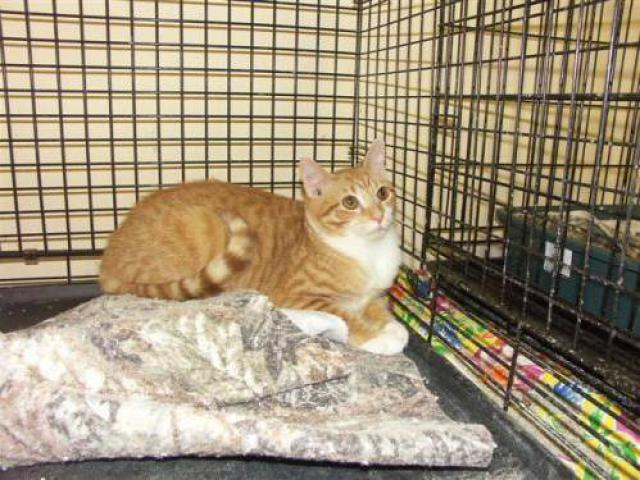cat: (104, 154, 409, 357)
